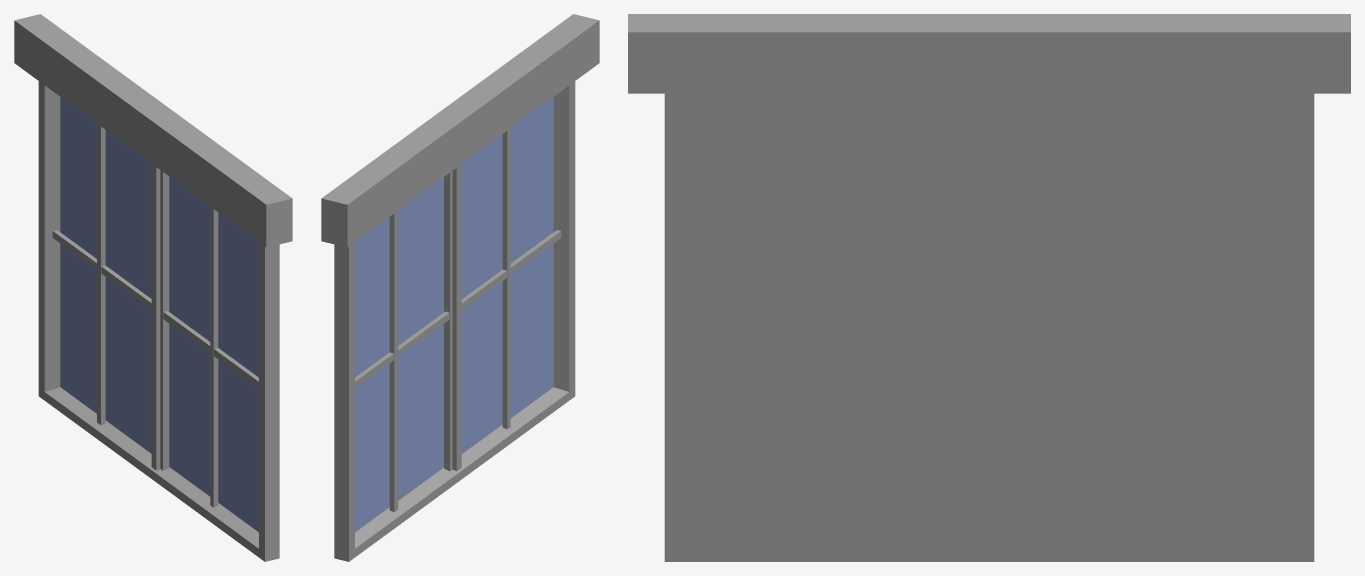
Rendered from N_House_Window_Medium.fbx.
3 renders of one model, left to right at view 1: azimuth 30°, elevation 25°; view 2: azimuth 150°, elevation 25°; view 3: azimuth 270°, elevation 25°, orthographic. The views are drawn at different scales.
Parts seen in each view (by area): view 1: N_House_Window_Medium; view 2: N_House_Window_Medium; view 3: N_House_Window_Medium.
Boxes of the visible parts, <box> form: N_House_Window_Medium: <box>14,14,292,561</box>; N_House_Window_Medium: <box>321,14,599,561</box>; N_House_Window_Medium: <box>628,14,1350,561</box>.
Size of the model in its own units: 8.32 by 112 by 139.
